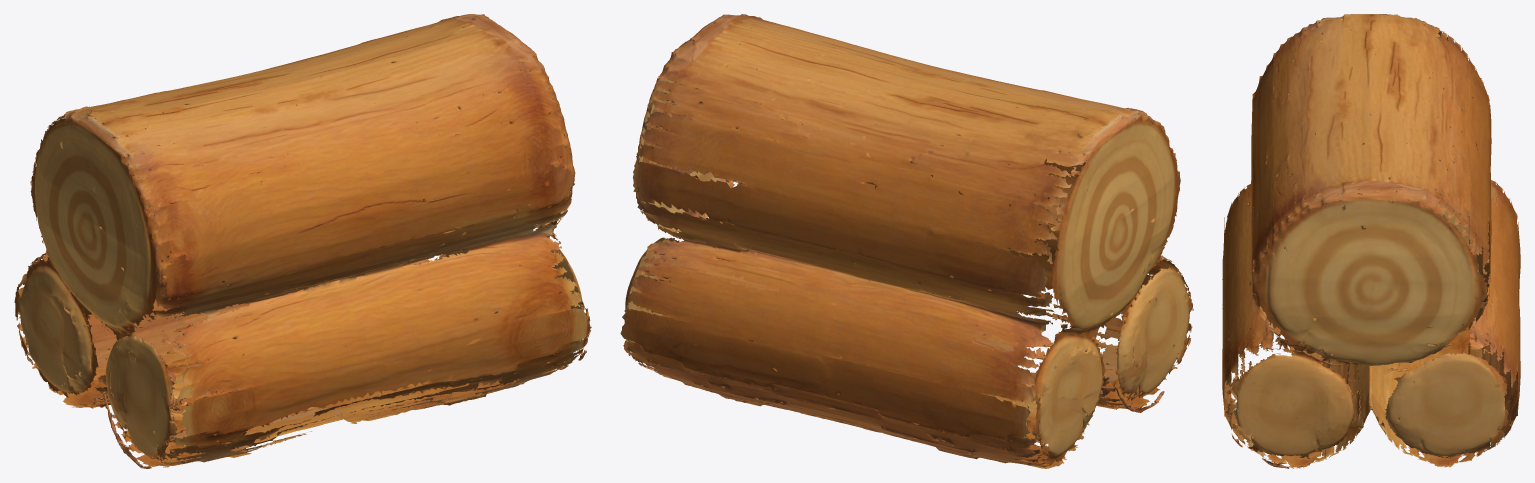
File: wood.glb
The picture shows the model from 3 angles, left to right: view 1: azimuth 30°, elevation 25°; view 2: azimuth 150°, elevation 25°; view 3: azimuth 270°, elevation 25°; orthographic projection. The views are drawn at different scales.
Size of the model in its own units: 1.98 by 1.39 by 1.33.
1 material, 1 textured.
